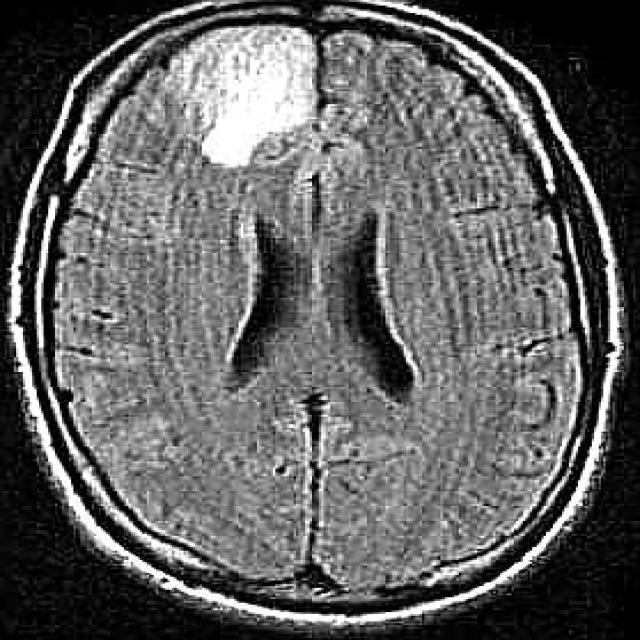brain tumor: (161, 26, 312, 164)
